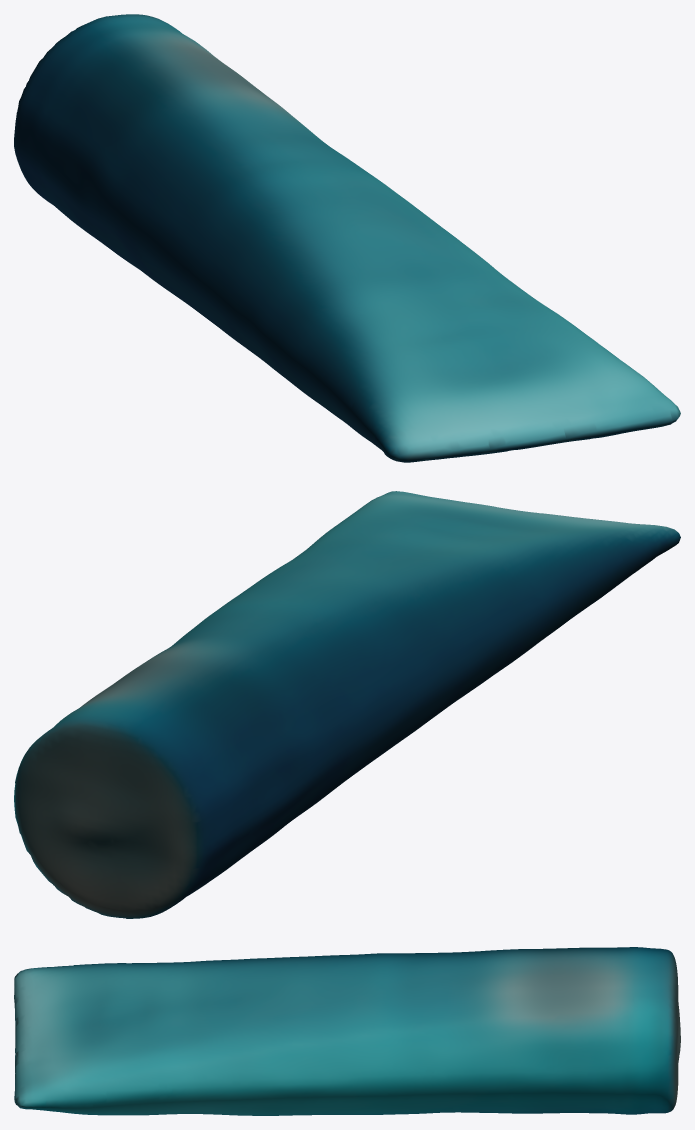
The model's file is oil.glb.
3 views of the same model, one above another, from view 1: azimuth 30°, elevation 25°; view 2: azimuth 150°, elevation 25°; view 3: azimuth 270°, elevation 25° (orthographic). The views are drawn at different scales.
Bounding box in the file's own units: 0.386 × 0.2469 × 0.9982.
